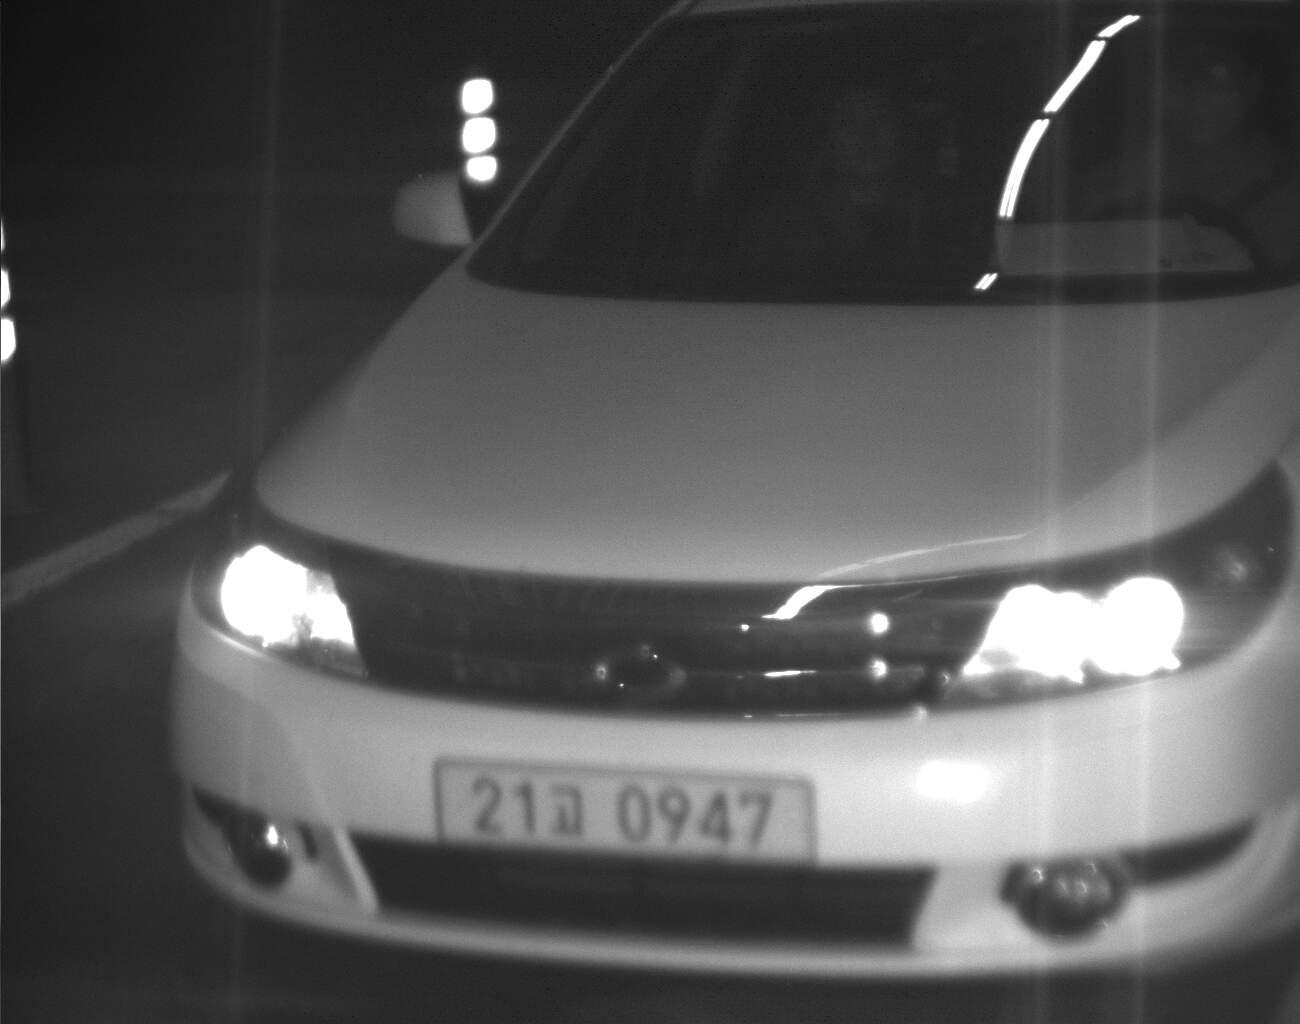car: (167, 2, 1300, 1024)
plate: (436, 761, 815, 867)
